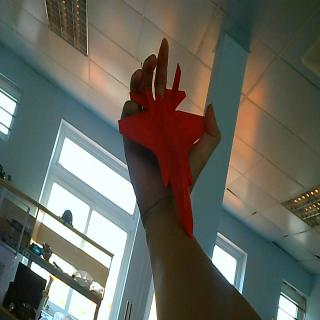Jet: (118, 71, 205, 239)
